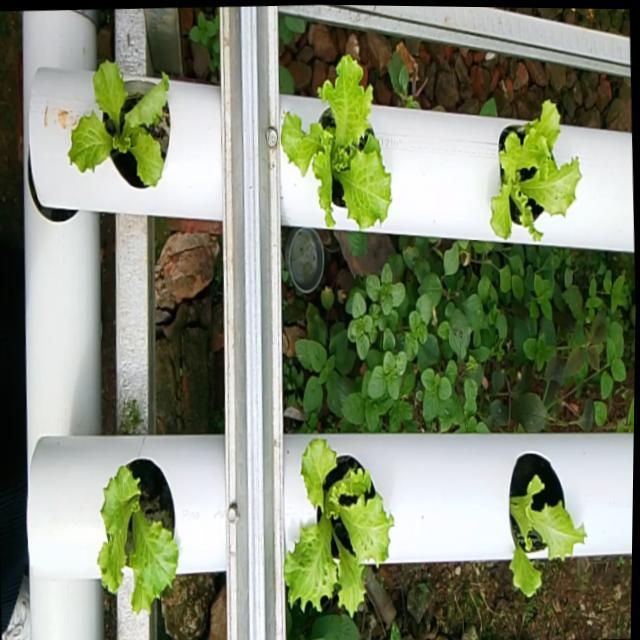Baby: (281, 439, 391, 622), (278, 57, 388, 232), (65, 63, 168, 192), (487, 100, 577, 241), (95, 461, 175, 615), (506, 451, 582, 595)
